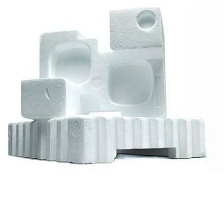foam_box: (15, 1, 172, 122), (3, 110, 211, 168)
